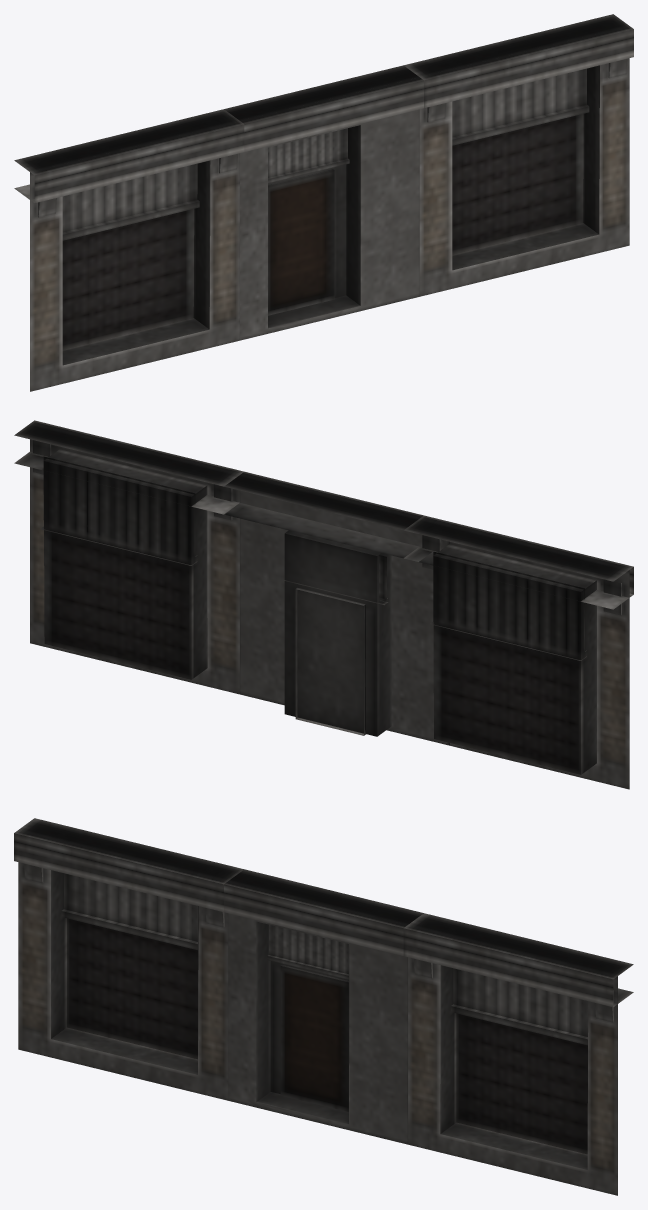
File: B1_FirstFloorStore3x.FBX
3 renders of one model, top to bottom at view 1: azimuth 30°, elevation 25°; view 2: azimuth 150°, elevation 25°; view 3: azimuth 330°, elevation 25°, orthographic.
Visible parts, largest first — view 1: B1_FirstFloorStore3x; view 2: B1_FirstFloorStore3x; view 3: B1_FirstFloorStore3x.
Boxes of the visible parts, x1,y1,x2,y2 form: B1_FirstFloorStore3x: (14,14,633,391); B1_FirstFloorStore3x: (14,420,633,789); B1_FirstFloorStore3x: (14,818,633,1195).
Size of the model in its own units: 11.42 by 4 by 0.6952.
